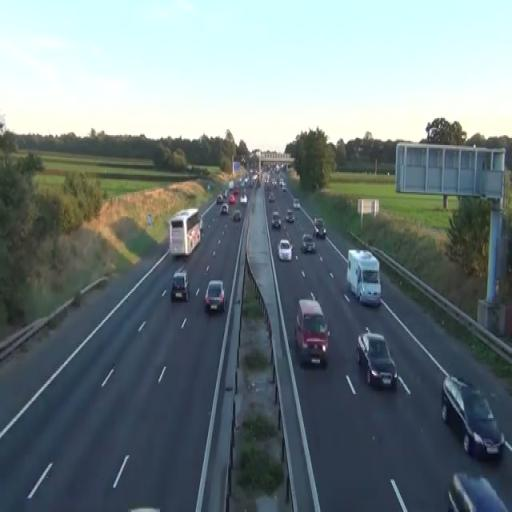Bus: (168, 208, 202, 258)
Car: (442, 374, 504, 462), (447, 471, 509, 512), (356, 330, 398, 390), (294, 299, 330, 367), (204, 280, 226, 314), (171, 269, 190, 301), (278, 239, 292, 262), (301, 233, 316, 253), (272, 211, 281, 228), (286, 210, 294, 224)
Truck: (294, 299, 329, 367), (346, 249, 382, 307)
